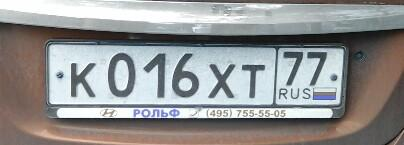license-plateSW: (43, 43, 345, 106)
